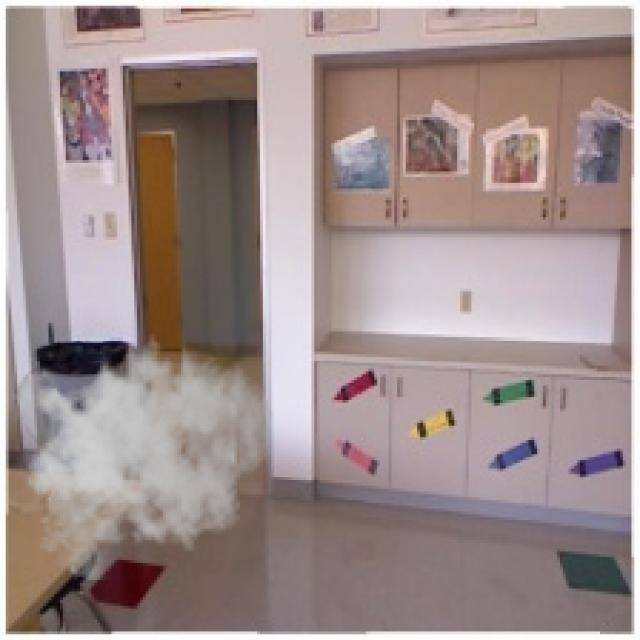smoke: (9, 323, 274, 580)
